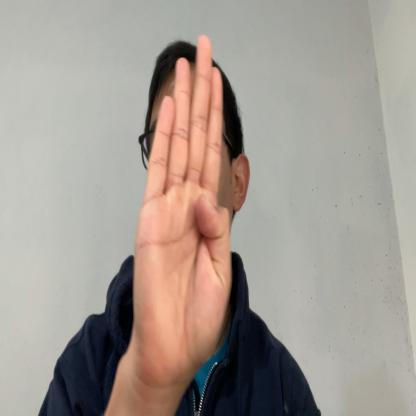B: (134, 32, 232, 382)
